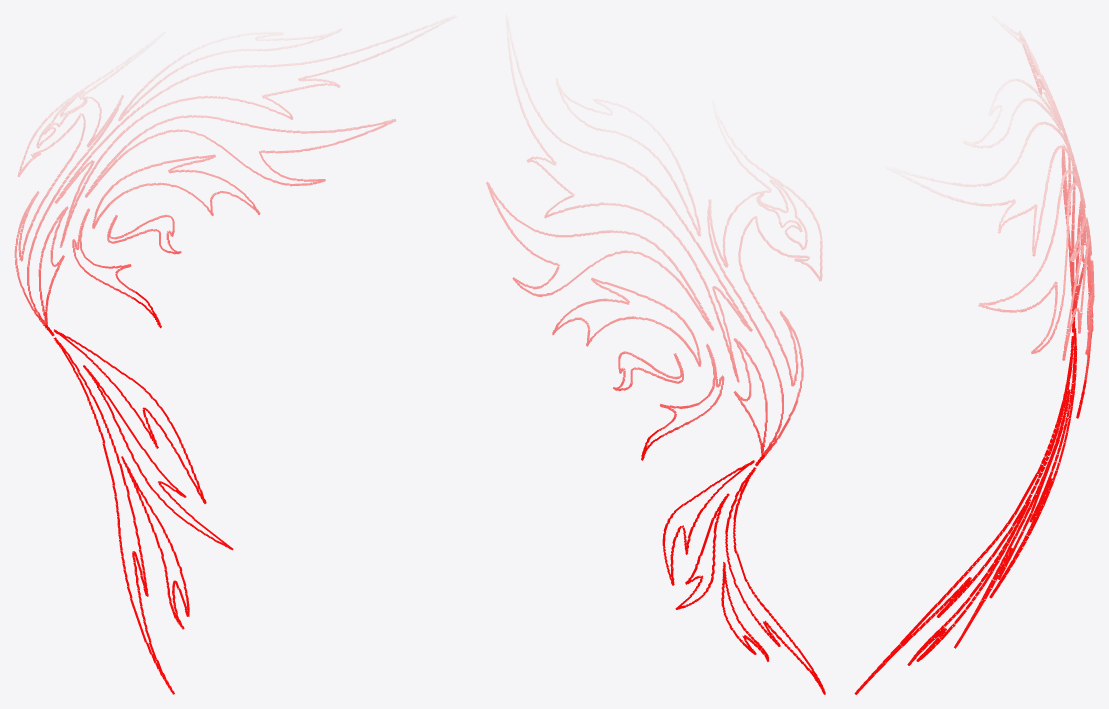
Rendered from Bird.glb.
The picture shows the model from 3 angles, left to right: view 1: azimuth 30°, elevation 25°; view 2: azimuth 150°, elevation 25°; view 3: azimuth 270°, elevation 25°; orthographic projection. The views are drawn at different scales.
Bounding box in the file's own units: 0.5277 × 0.8232 × 0.2525.
